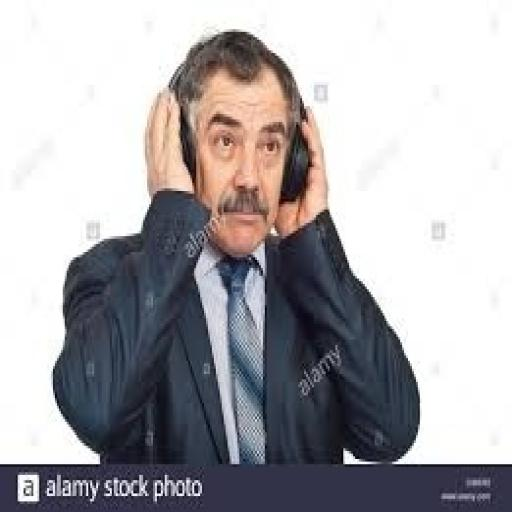listening_to_music: (49, 26, 424, 467)
